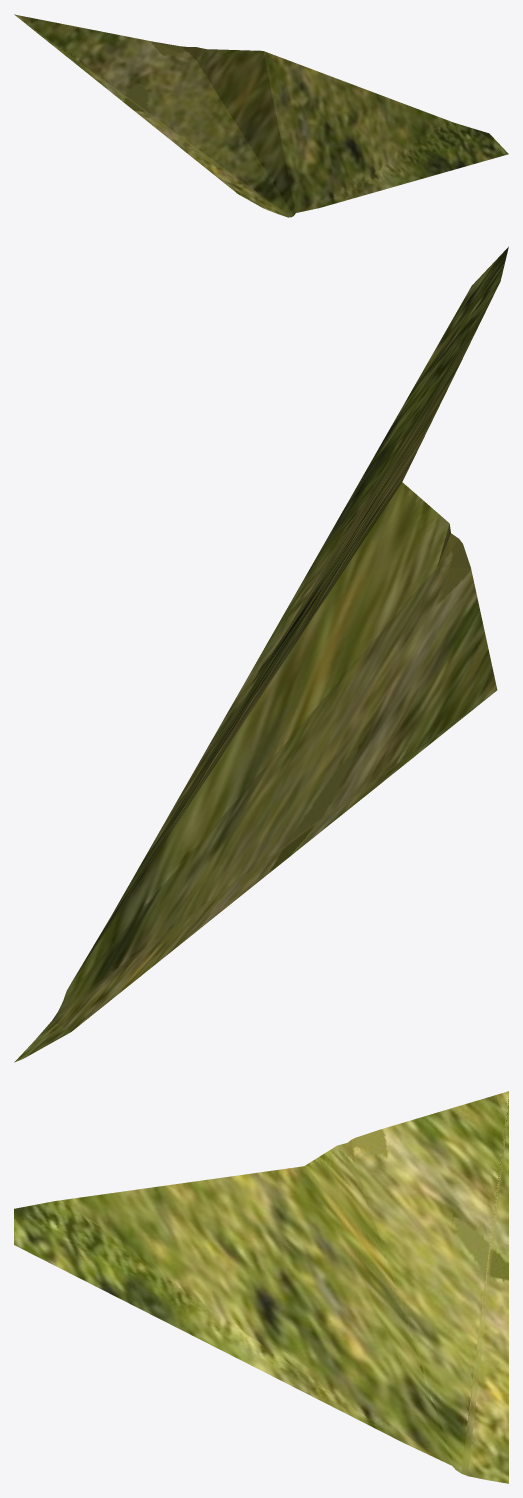
3 views of the same model, one above another, from view 1: azimuth 30°, elevation 25°; view 2: azimuth 150°, elevation 25°; view 3: azimuth 270°, elevation 25° (orthographic). The views are drawn at different scales.
Size of the model in its own units: 1.8 by 1.74 by 2.95.
Materials: 2 (2 with a texture image).
